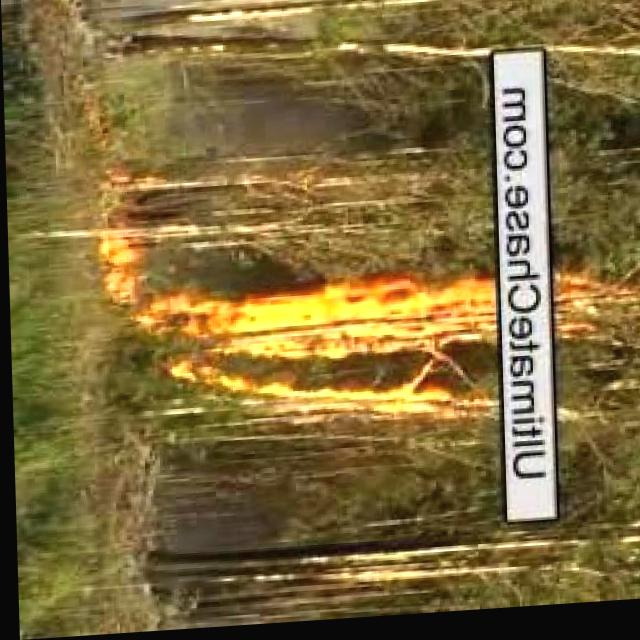Fire: (148, 263, 489, 436), (248, 528, 514, 600), (552, 270, 634, 351), (88, 224, 139, 319)
